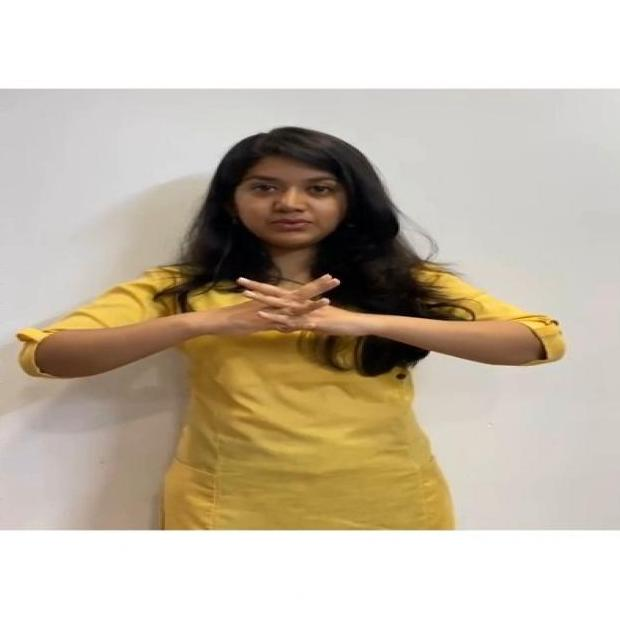V: (228, 271, 346, 340)
